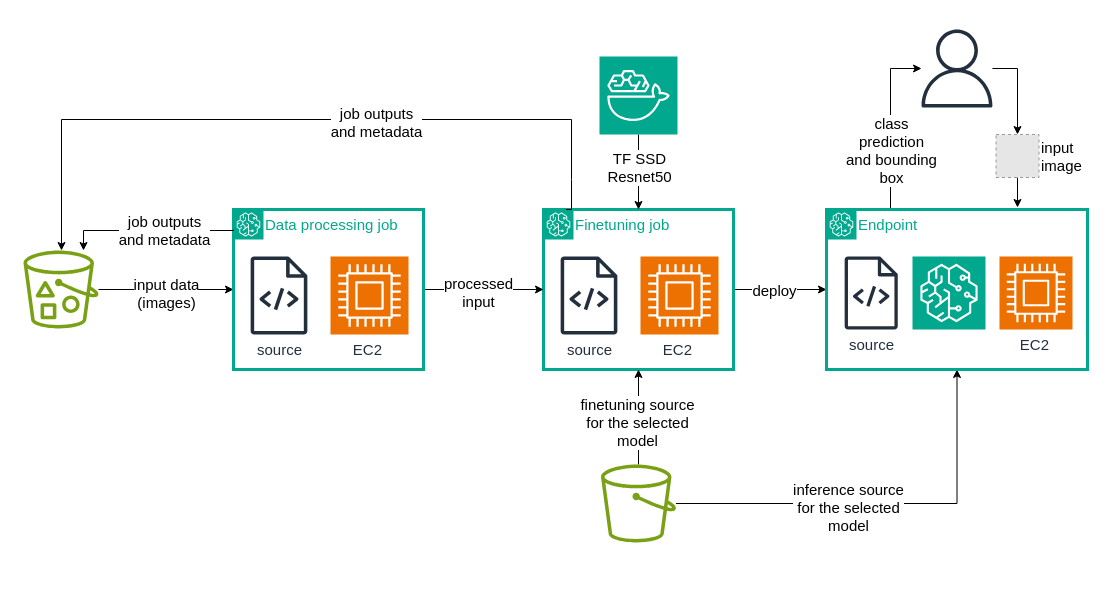
This 1106x595 diagram has some shape labels left out. Grey dashed boxes stand in for pictures. The shapes that lost their labels are listed below. From the top down, each one's centre as x and y in pixels, then its label:
At point 638,95: "SM pretrained models containers".
At point 60,289: "S3 repository".
At point 949,293: "Finetuned model".
At point 638,503: "S3 SM pretrained models source".
